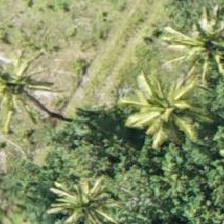coconut_tree: (123, 72, 213, 162), (35, 160, 125, 223), (161, 6, 223, 96), (0, 37, 51, 127)
